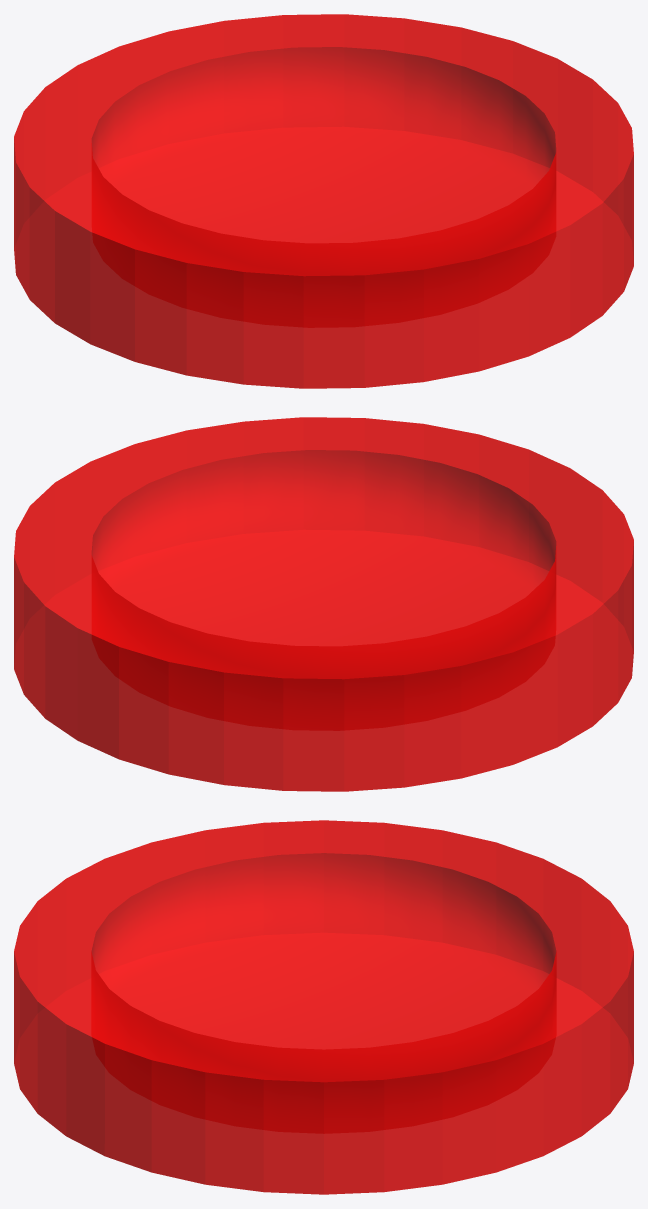
Rendered from RedNotePlayer.obj.
3 renders of one model, top to bottom at view 1: azimuth 30°, elevation 25°; view 2: azimuth 150°, elevation 25°; view 3: azimuth 270°, elevation 25°, orthographic.
Parts seen in each view (by area): view 1: Cylinder; view 2: Cylinder; view 3: Cylinder.
Part boxes in pixels (left/top/right/bottom): Cylinder: left=14, top=14, right=633, bottom=388; Cylinder: left=14, top=417, right=633, bottom=791; Cylinder: left=14, top=820, right=633, bottom=1194.
Size of the model in its own units: 2 by 0.4 by 2.
